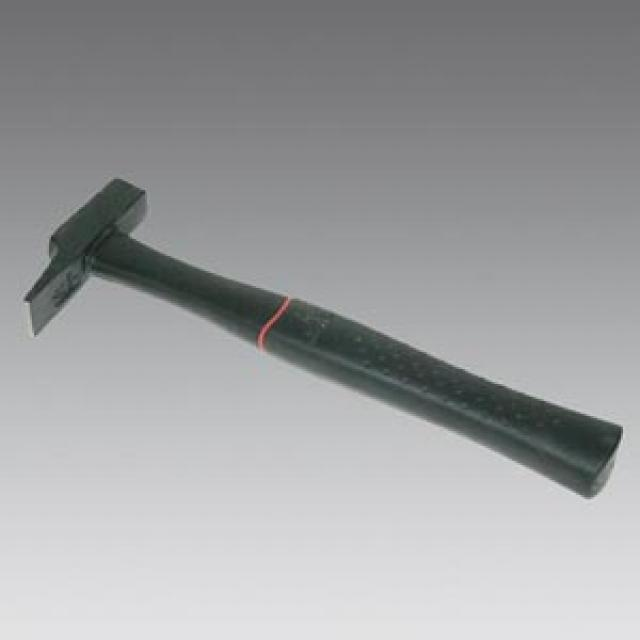hammer: (19, 174, 626, 524)
